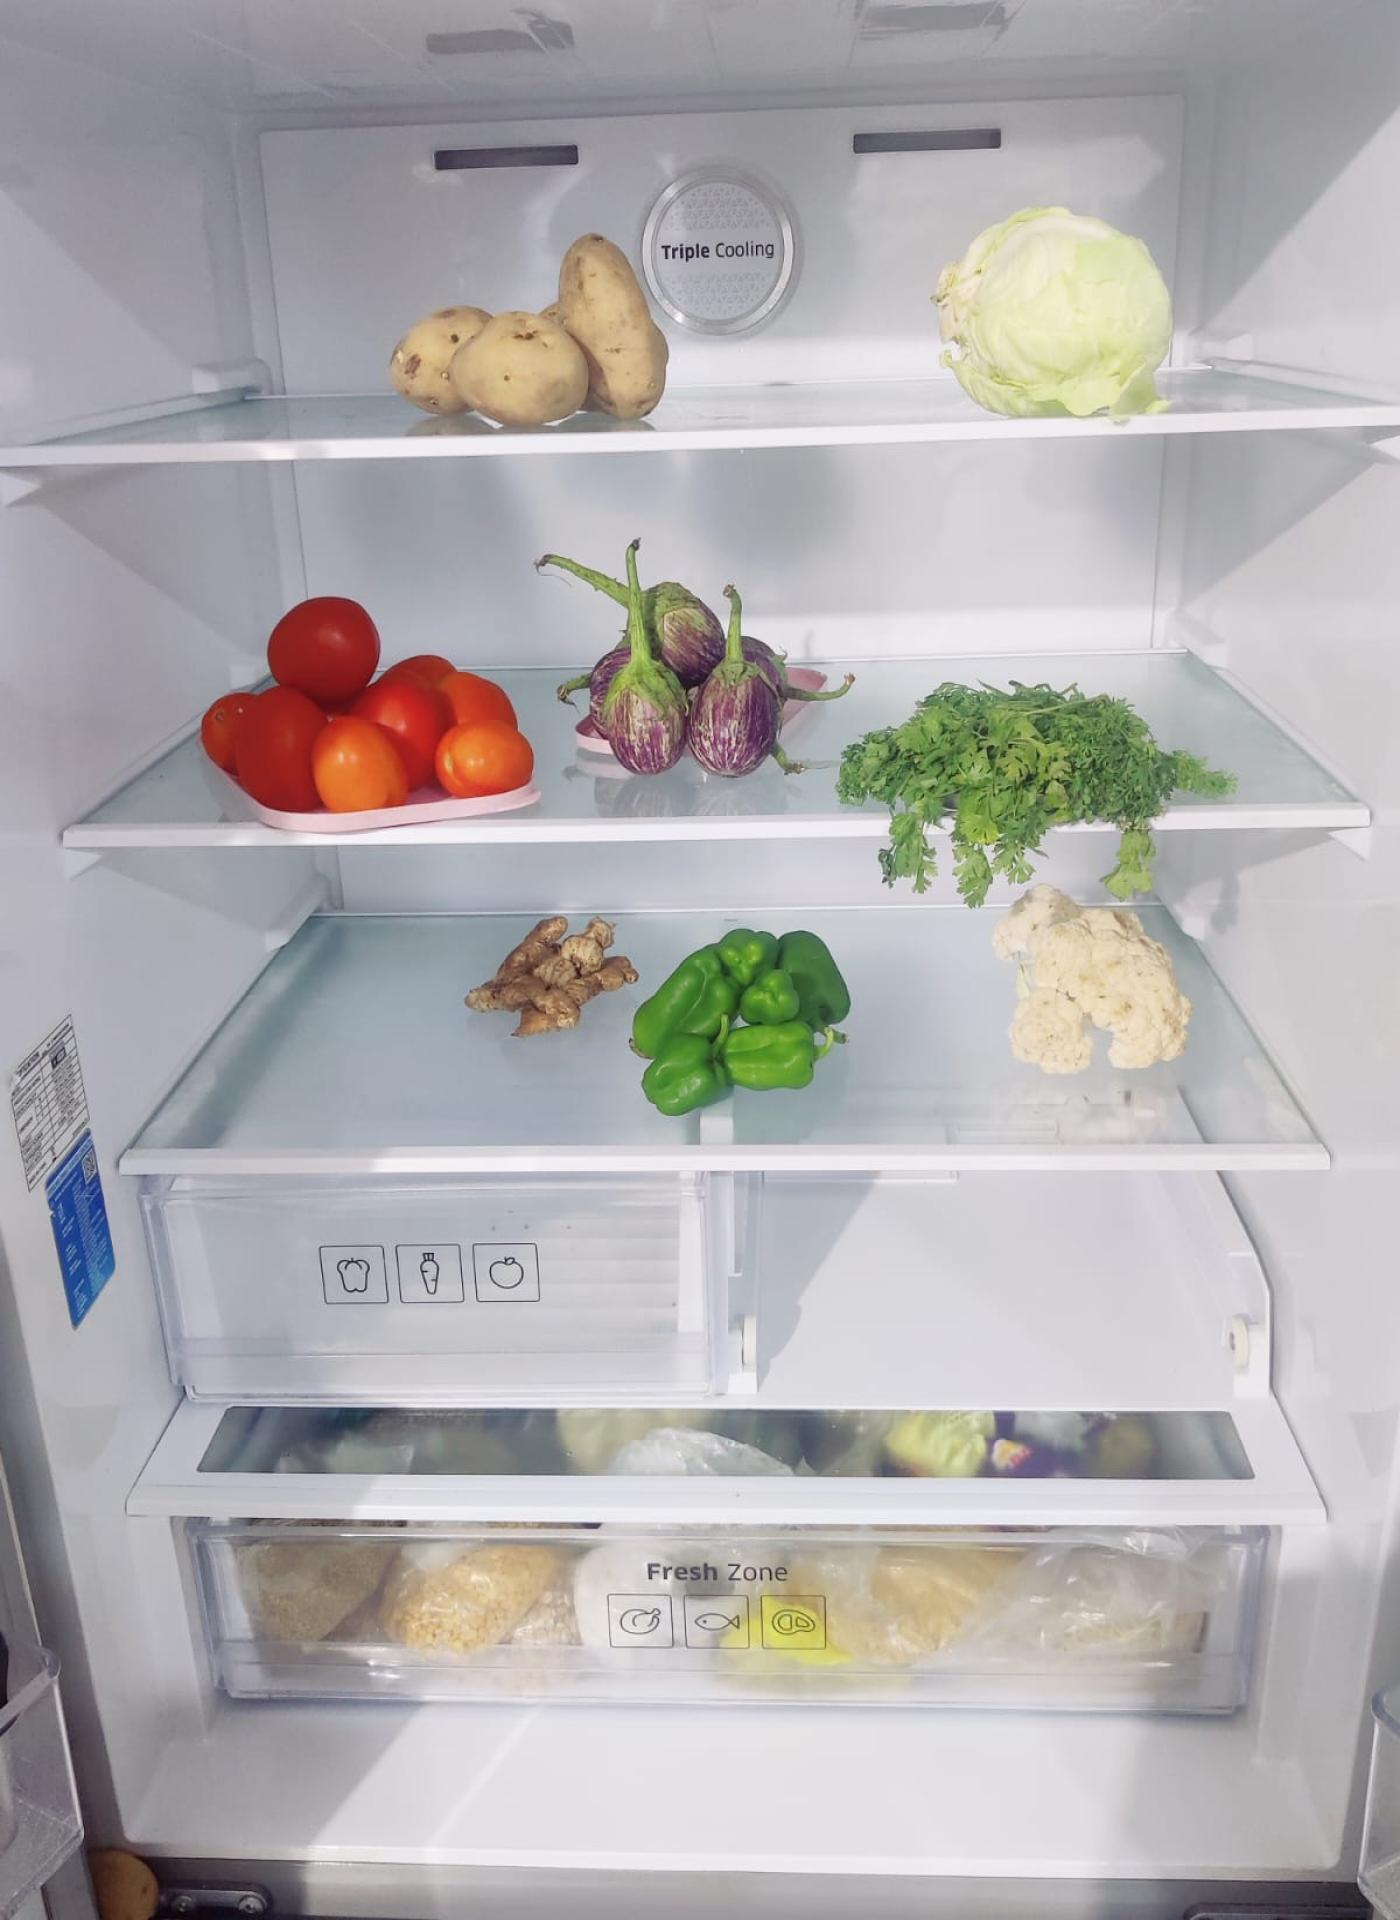brinjal: (587, 578, 789, 777)
cabbage: (942, 203, 1179, 417)
capsicum: (641, 933, 853, 1120)
cauliflower: (1008, 896, 1197, 1078)
coriander: (842, 680, 1212, 847)
ginger: (468, 911, 640, 1036)
potato: (389, 241, 666, 429)
tomato: (203, 595, 531, 811)
